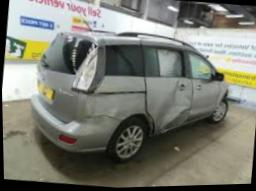Door: (141, 41, 193, 134)
